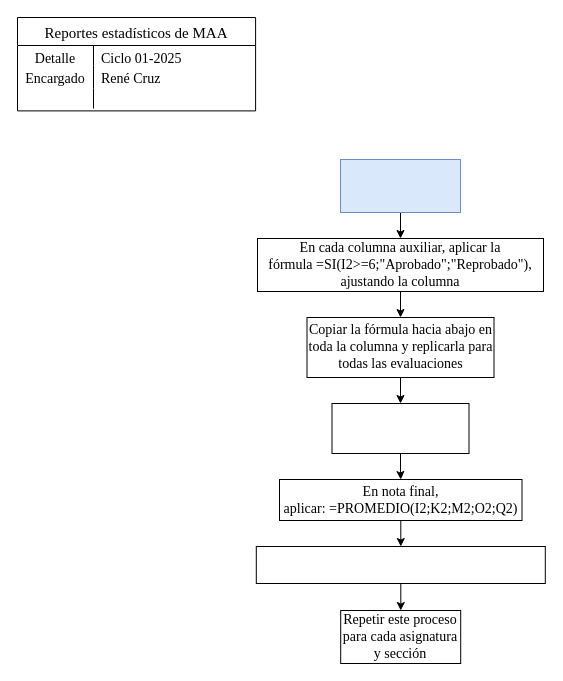
Some shapes in this 563 by 681 pixel diagram are drawn without their labels. The shapes that lost their labels are listed below. From the top down, each one's centre as x and y in pixels, then its label:
[400,185]: Aplicación de Fórmulas de Evaluación
[400,428]: Insertar dos columnas al final: Nota Final y Resultado
[400,565]: En Resultado, aplicar: =SI(S2>=6;"Aprobado";"Reprobado")
